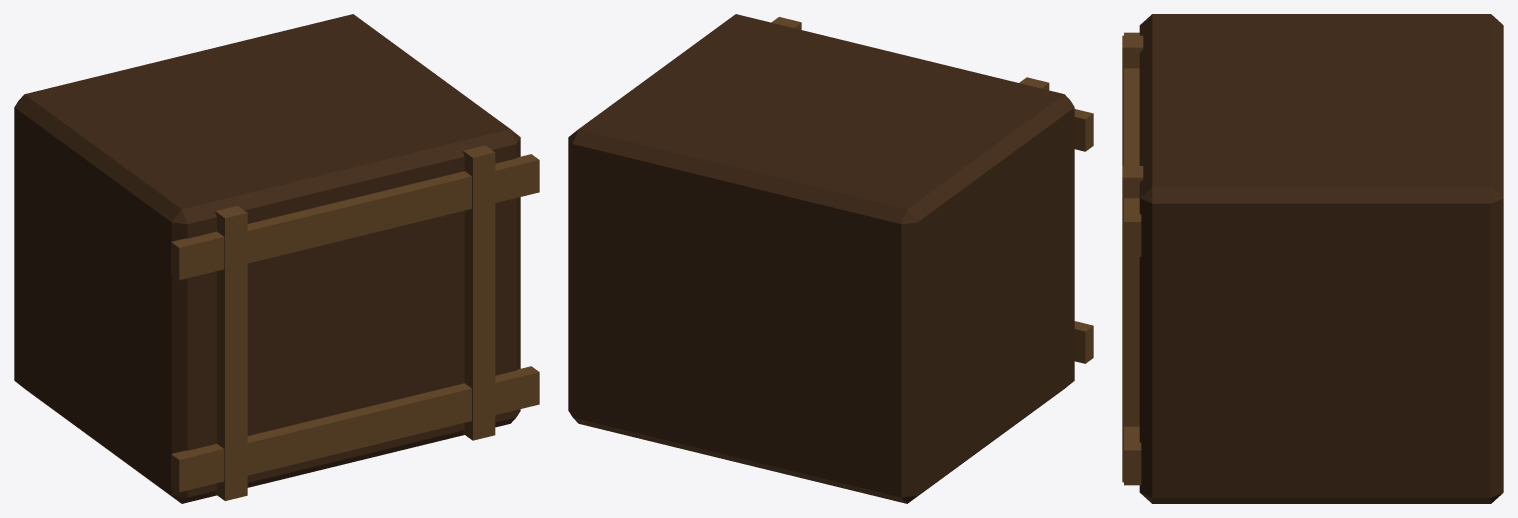
Rendered from SM_ENV_Village_02_Crate.glb.
3 views of the same model, side by side, from view 1: azimuth 30°, elevation 25°; view 2: azimuth 150°, elevation 25°; view 3: azimuth 270°, elevation 25° (orthographic). The views are drawn at different scales.
Parts seen in each view (by area): view 1: SM_ENV_Village_02_Crate; view 2: SM_ENV_Village_02_Crate; view 3: SM_ENV_Village_02_Crate.
Part boxes in pixels (<box>): SM_ENV_Village_02_Crate: <box>14,14,539,503</box>; SM_ENV_Village_02_Crate: <box>568,14,1093,503</box>; SM_ENV_Village_02_Crate: <box>1122,14,1503,503</box>.
Bounding box in the file's own units: 0.64 × 0.5 × 0.545.
